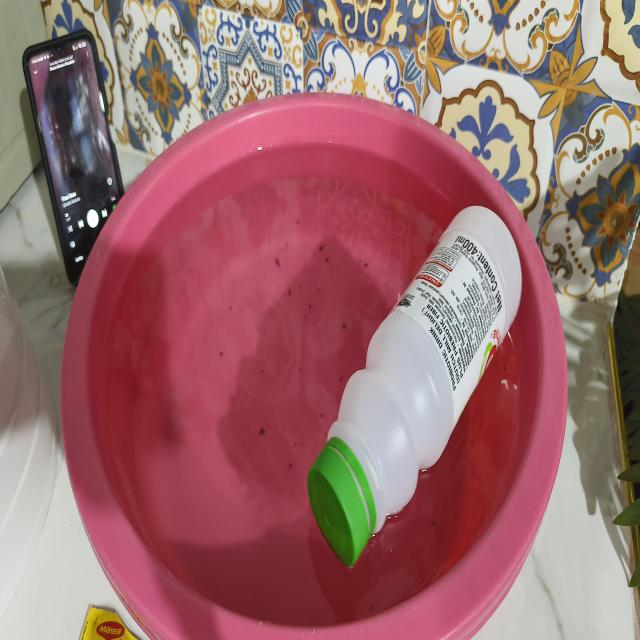Plastic Bottle: (308, 206, 522, 566)
